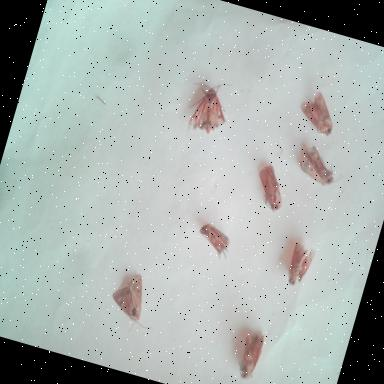abw: (173, 68, 243, 146), (100, 264, 168, 344), (290, 138, 352, 198), (290, 82, 346, 144), (244, 159, 294, 218), (188, 216, 242, 270), (276, 234, 322, 296), (226, 324, 273, 384)
